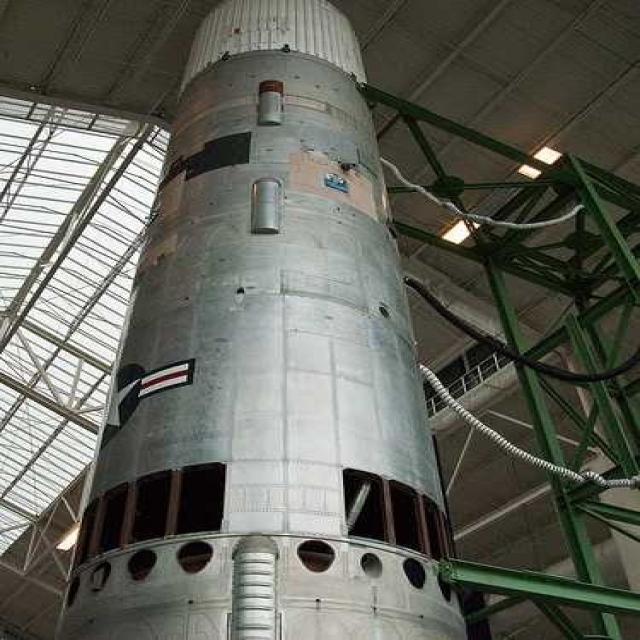missile: (53, 0, 465, 640)
